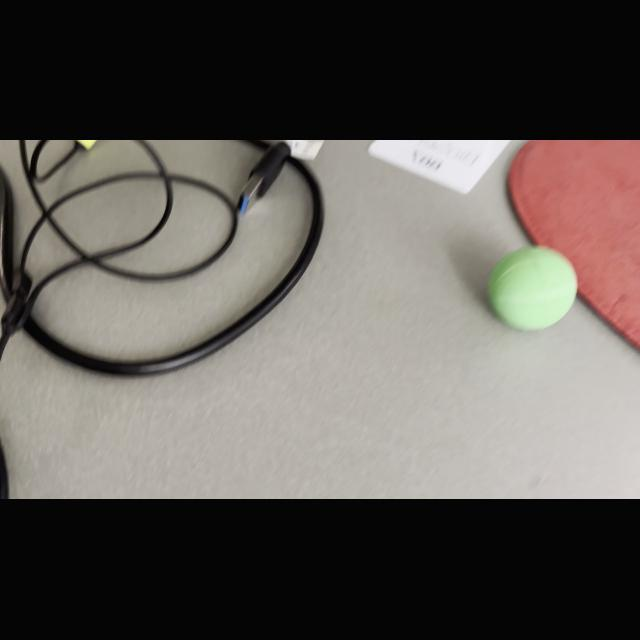objects: (481, 237, 584, 335)
